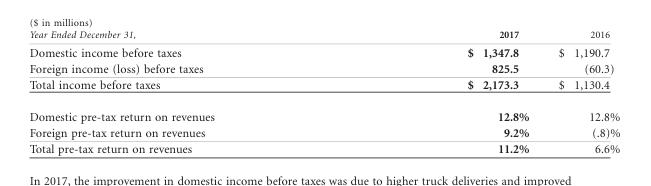table: (28, 28, 619, 155)
table column: (28, 28, 340, 155), (340, 28, 543, 155), (543, 28, 619, 155)
table column header: (28, 28, 619, 42)
table row: (28, 76, 619, 100), (28, 100, 619, 124), (28, 42, 619, 60), (28, 60, 619, 76), (28, 124, 619, 140), (28, 140, 619, 155), (28, 28, 619, 42)
